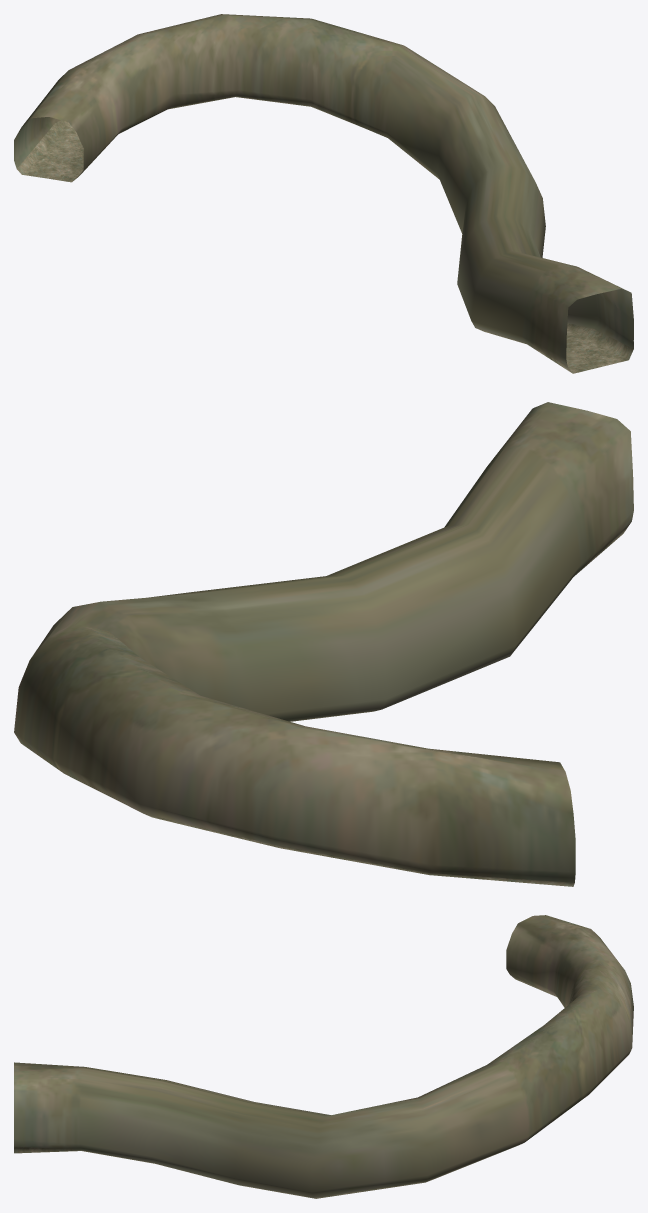
The model's file is OVERHILL_A_01_CM_TUNNEL_06.fbx.
3 renders of one model, top to bottom at view 1: azimuth 30°, elevation 25°; view 2: azimuth 150°, elevation 25°; view 3: azimuth 270°, elevation 25°, orthographic. The views are drawn at different scales.
Parts seen in each view (by area): view 1: OVERHILL_A_01_CM_TUNNEL_06; view 2: OVERHILL_A_01_CM_TUNNEL_06; view 3: OVERHILL_A_01_CM_TUNNEL_06.
Part boxes in pixels (x1,y1,x2,y2): OVERHILL_A_01_CM_TUNNEL_06: (14, 14, 633, 373); OVERHILL_A_01_CM_TUNNEL_06: (14, 402, 633, 886); OVERHILL_A_01_CM_TUNNEL_06: (14, 915, 633, 1198).
Size of the model in its own units: 187464 by 69171 by 260635.
1 material, 1 textured.
